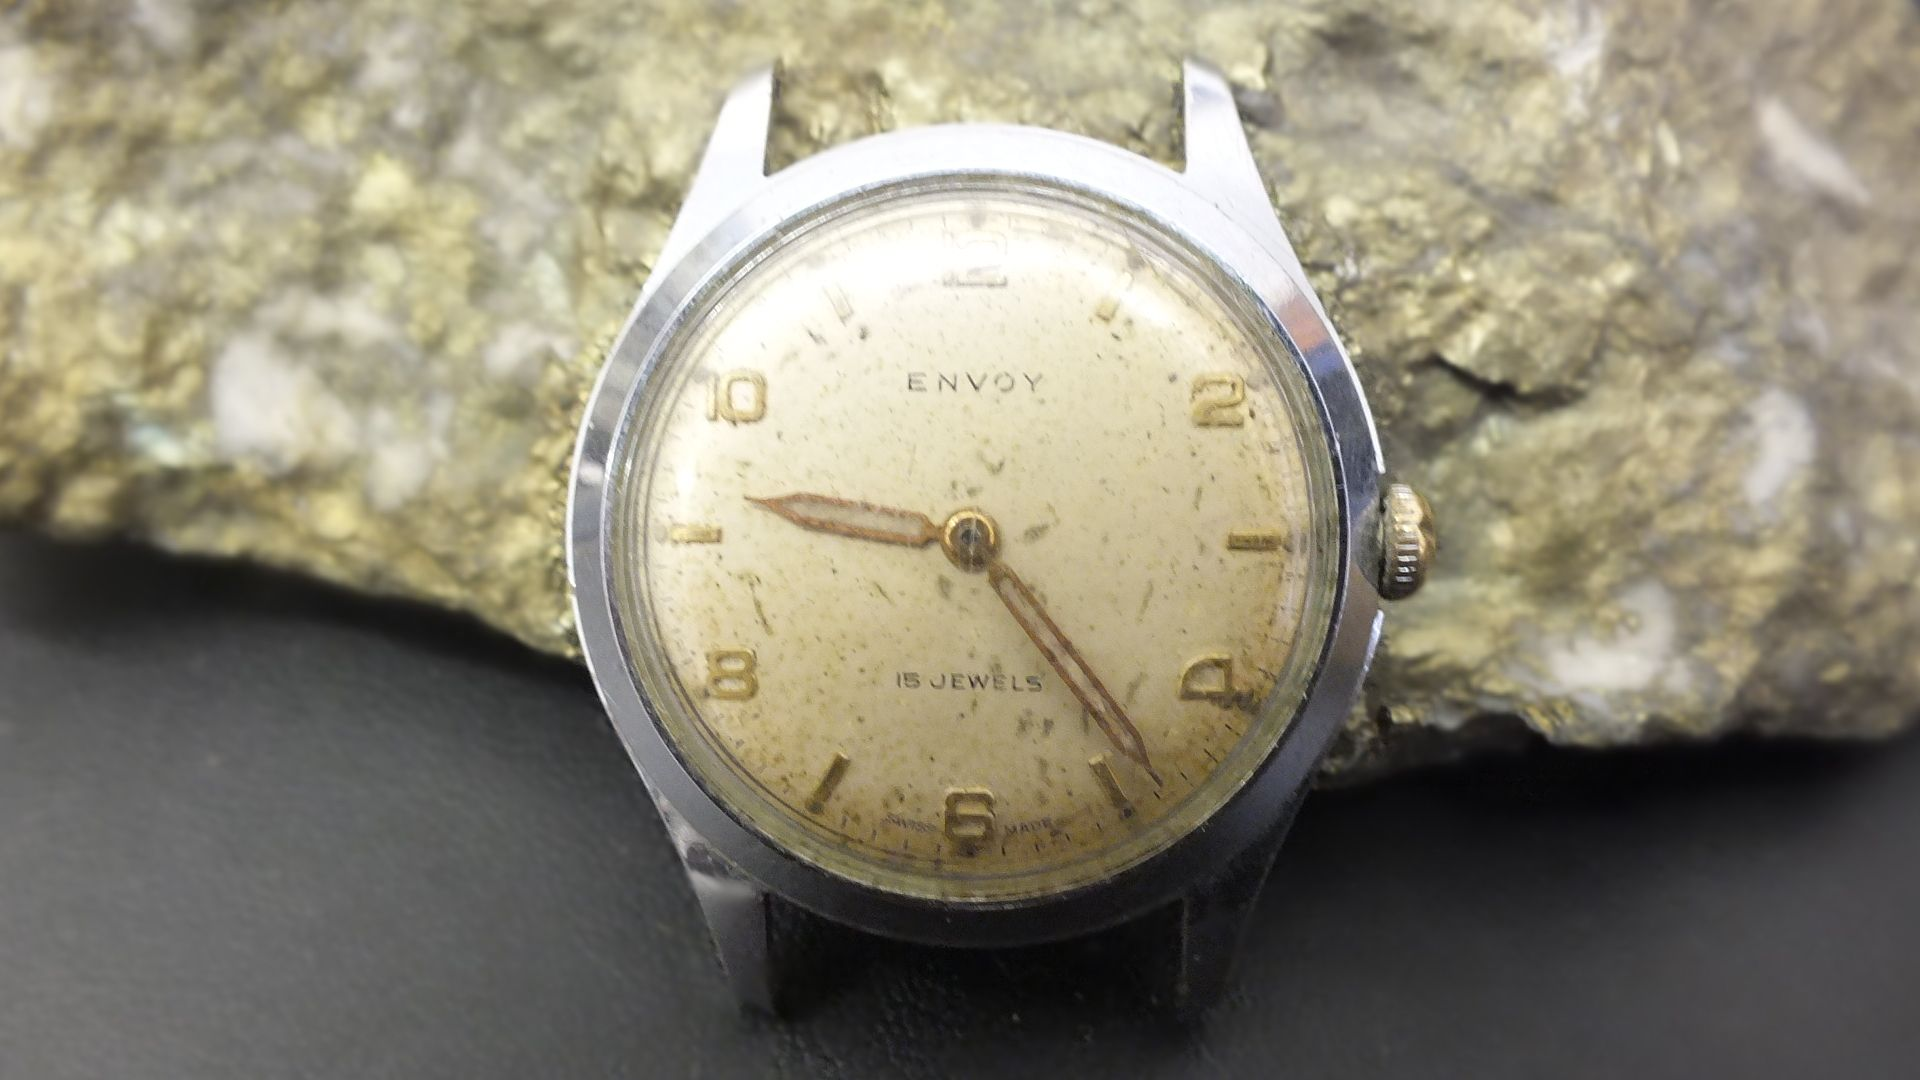clock: (567, 123, 1393, 948)
